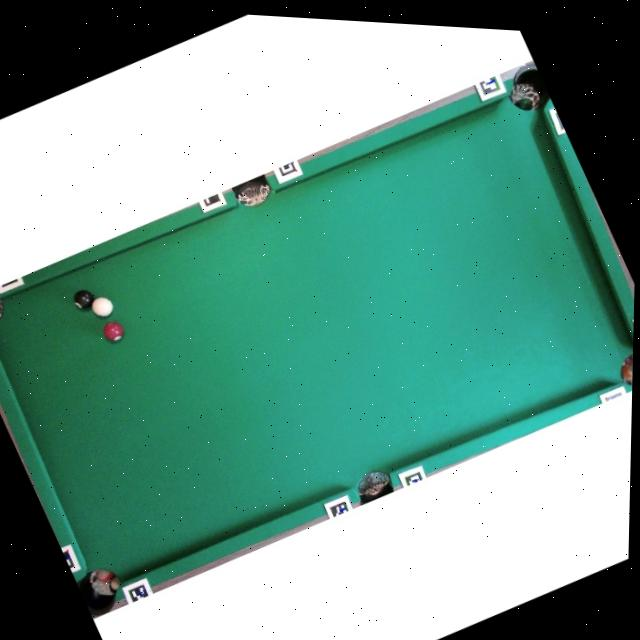cue ball: (88, 291, 117, 322)
other: (69, 284, 98, 313), (100, 316, 128, 346)
